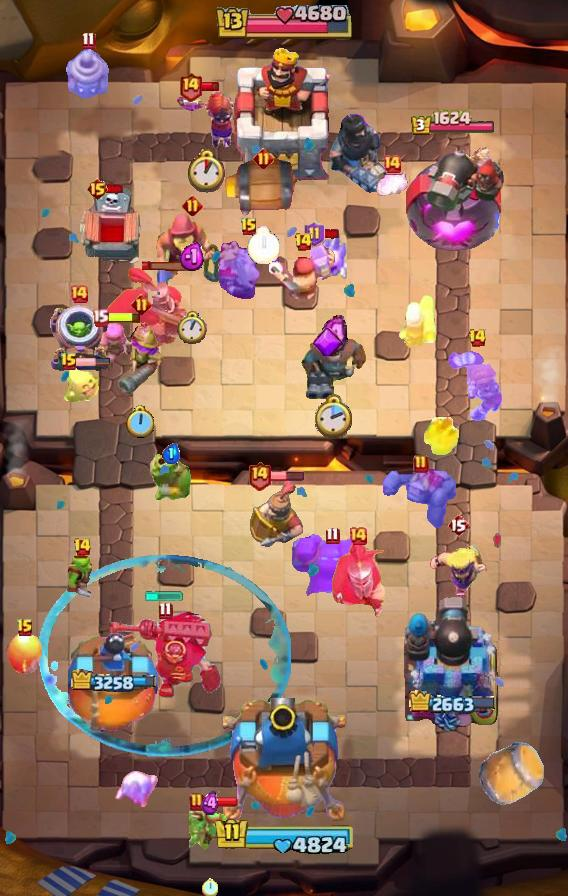bar: (142, 261, 194, 272), (106, 311, 142, 324), (203, 796, 239, 808), (269, 470, 305, 482), (75, 357, 111, 367), (322, 228, 341, 240), (106, 183, 125, 195), (201, 81, 220, 92)
bar-level: (247, 460, 272, 491), (178, 71, 203, 102), (86, 177, 109, 201), (304, 221, 325, 247), (447, 513, 469, 537), (131, 294, 152, 315), (182, 195, 203, 216), (253, 148, 274, 169), (348, 526, 368, 546), (69, 284, 89, 304), (382, 154, 402, 174), (73, 537, 92, 557), (468, 328, 487, 348), (294, 232, 313, 252), (16, 618, 34, 638), (60, 352, 78, 372), (240, 217, 258, 237), (92, 308, 109, 327), (189, 792, 205, 812), (413, 454, 429, 474), (158, 601, 173, 620), (325, 526, 340, 545), (81, 31, 96, 50)
barbarian-barrel: (223, 158, 303, 218)
barbarian-evolution: (428, 541, 488, 599)
cannoneer-tower: (404, 593, 502, 731), (402, 136, 504, 256)
clock: (186, 149, 228, 193), (315, 394, 354, 440), (247, 226, 280, 264), (126, 405, 156, 440), (177, 311, 207, 345), (202, 878, 218, 896)
elixir: (320, 315, 348, 355), (179, 242, 206, 272), (201, 791, 220, 816), (162, 443, 180, 464)
evolution-symbol: (312, 328, 342, 356)
firecracker: (88, 315, 135, 373), (396, 292, 438, 350)
goblin: (63, 552, 101, 598)
goblin-brawler: (150, 453, 192, 503)
golemite: (382, 465, 460, 529)
heal-spirit: (63, 365, 103, 403)
hunter: (299, 324, 369, 402)
ice-spirit-evolution: (310, 231, 350, 283), (111, 769, 161, 807)
king-tower: (223, 698, 345, 826), (229, 43, 339, 181)
king-tower-bar: (210, 816, 358, 858), (213, 5, 355, 43)
lava-pup: (374, 169, 410, 201)
lumberjack: (269, 243, 337, 305)
mortar-evolution: (47, 304, 111, 374)
musketeer: (113, 320, 169, 398)
phoenix-egg: (5, 632, 45, 676)
queen-tower: (68, 633, 160, 731)
royal-ghost: (216, 238, 282, 304)
royal-recruit: (250, 477, 306, 553)
spear-goblin: (189, 805, 231, 851)
tower-bar: (409, 690, 498, 717), (410, 110, 496, 137), (71, 669, 158, 695)
valkyrie-evolution: (448, 348, 506, 422), (176, 87, 238, 149)
zappy: (65, 46, 111, 98)
